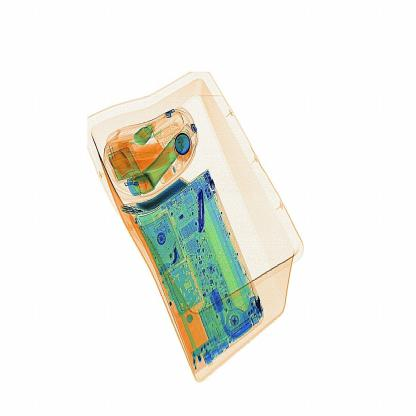knife: (187, 177, 215, 243)
